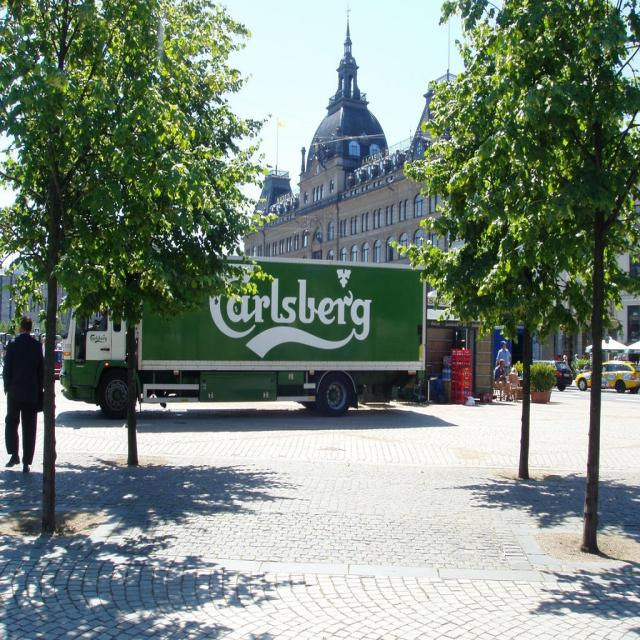carlsberg: (207, 260, 382, 360)
